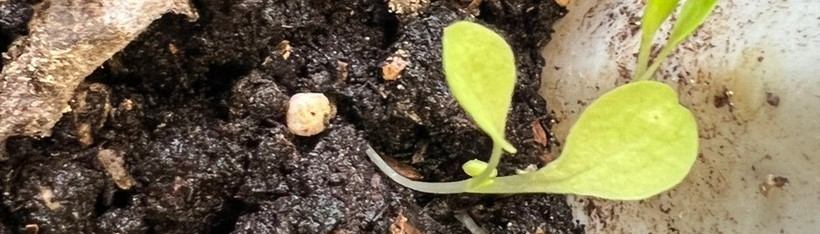week2: (473, 80, 716, 212), (431, 20, 525, 182)
